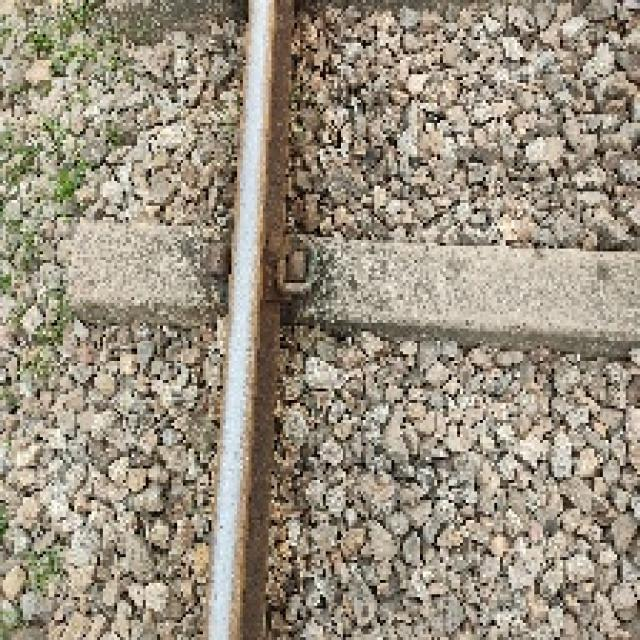Good Fasteners: (266, 238, 334, 297)
Missing Fastener: (195, 243, 238, 273)
